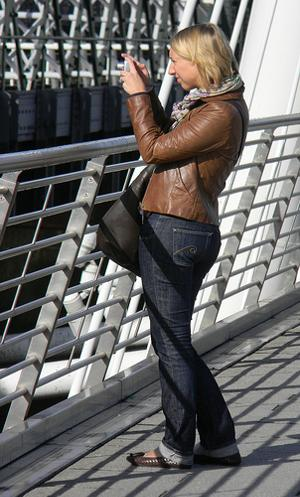person: (120, 25, 249, 469)
